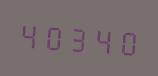four: (18, 15, 41, 53), (90, 20, 113, 58)
three: (66, 19, 89, 56)
zero: (42, 17, 65, 55), (114, 22, 137, 60)
